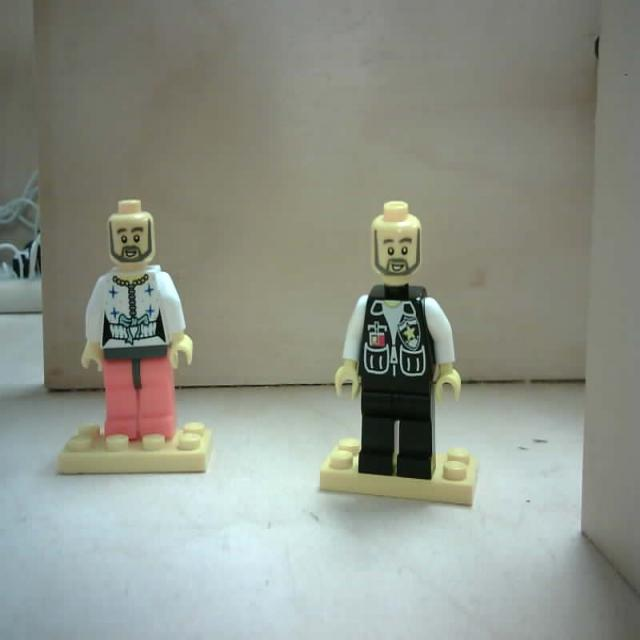Lego-People: (322, 201, 482, 510), (58, 202, 214, 474)
